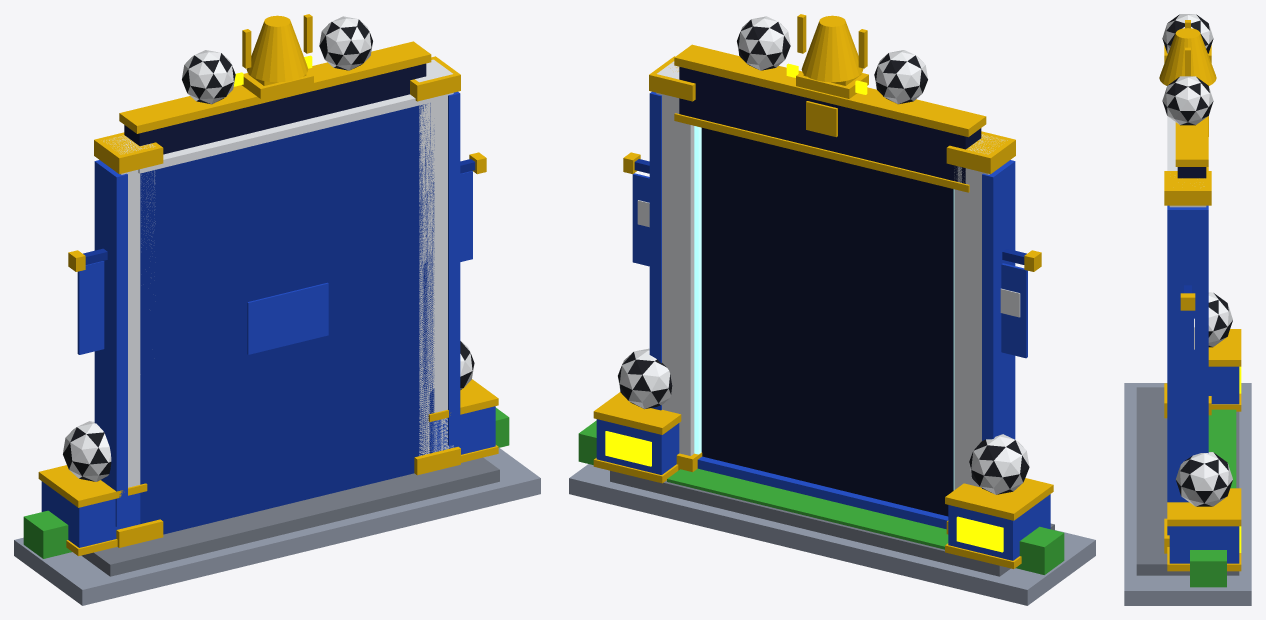
The model's file is Football_Leaderboard.fbx.
3 views of the same model, side by side, from view 1: azimuth 30°, elevation 25°; view 2: azimuth 150°, elevation 25°; view 3: azimuth 270°, elevation 25° (orthographic). The views are drawn at different scales.
Visible parts, largest first — view 1: BackPanel, Base_StepBottom, Base_StepTop, Pillar_R, PillarBrace_L, HeaderPlaque, HeaderGoldTrim_Top, PillarBrace_R, Pillar_L, BackCrownEmblem, BackTrim_Top, Podium_L (+15 smaller); view 2: ScreenPart, Base_StepBottom, HeaderPlaque, Pillar_R, Pillar_L, PillarBrace_L, HeaderGoldTrim_Top, Base_GrassPitchStrip, Base_StepTop, PillarBrace_R, FrameBottom, CrownTrophy_Cup (+20 smaller); view 3: PillarBrace_R, Base_StepBottom, Base_StepTop, Football_Podium_R, Podium_R, PodiumTrim_Top_R, Football_TopR, CrownTrophy_Cup, Base_GrassPitchStrip, HeaderGoldTrim_Top, PillarTop_R, Bush_R (+11 smaller).
Boxes of the visible parts, left/top/right/bottom form: BackPanel: left=140, top=103, right=434, bottom=534; Base_StepBottom: left=14, top=448, right=540, bottom=605; Base_StepTop: left=81, top=457, right=499, bottom=576; Pillar_R: left=415, top=59, right=453, bottom=455; PillarBrace_L: left=94, top=160, right=127, bottom=526; HeaderPlaque: left=124, top=63, right=426, bottom=154; HeaderGoldTrim_Top: left=119, top=41, right=431, bottom=133; PillarBrace_R: left=448, top=91, right=460, bottom=445; Pillar_L: left=103, top=135, right=155, bottom=487; BackCrownEmblem: left=247, top=282, right=328, bottom=354; BackTrim_Top: left=138, top=94, right=437, bottom=173; Podium_L: left=41, top=481, right=140, bottom=547; ScreenPart: left=701, top=127, right=953, bottom=516; Base_StepBottom: left=569, top=464, right=1095, bottom=605; HeaderPlaque: left=679, top=67, right=981, bottom=183; Pillar_R: left=656, top=61, right=694, bottom=455; Pillar_L: left=954, top=134, right=1007, bottom=489; PillarBrace_L: left=982, top=160, right=1015, bottom=488; HeaderGoldTrim_Top: left=674, top=44, right=986, bottom=137; Base_GrassPitchStrip: left=667, top=468, right=948, bottom=549; Base_StepTop: left=610, top=470, right=1054, bottom=576; PillarBrace_R: left=649, top=91, right=661, bottom=410; FrameBottom: left=697, top=456, right=948, bottom=529; CrownTrophy_Cup: left=801, top=15, right=863, bottom=82; PillarBrace_R: left=1167, top=205, right=1208, bottom=535; Base_StepBottom: left=1124, top=383, right=1251, bottom=605; Base_StepTop: left=1136, top=387, right=1239, bottom=575; Football_Podium_R: left=1175, top=452, right=1232, bottom=506; Podium_R: left=1169, top=526, right=1239, bottom=563; PodiumTrim_Top_R: left=1167, top=488, right=1241, bottom=526; Football_TopR: left=1162, top=76, right=1213, bottom=125; CrownTrophy_Cup: left=1159, top=28, right=1216, bottom=85; Base_GrassPitchStrip: left=1208, top=409, right=1236, bottom=488; HeaderGoldTrim_Top: left=1175, top=54, right=1208, bottom=166; PillarTop_R: left=1164, top=171, right=1211, bottom=205; Bush_R: left=1190, top=550, right=1226, bottom=587.
Bounding box in the file's own units: 2440 × 2520 × 620.
